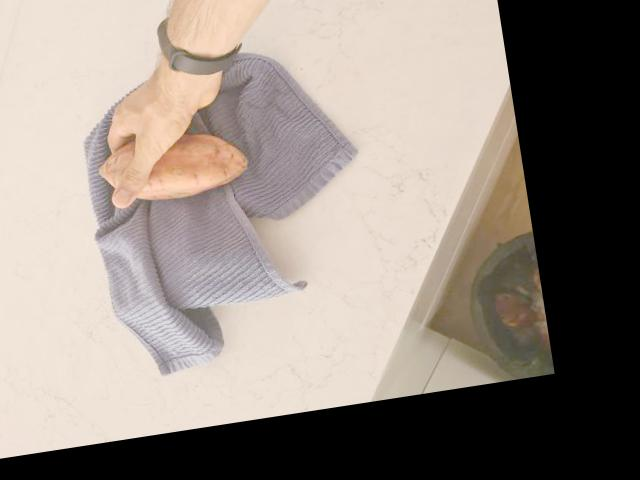sweet_potato: (96, 120, 249, 210)
